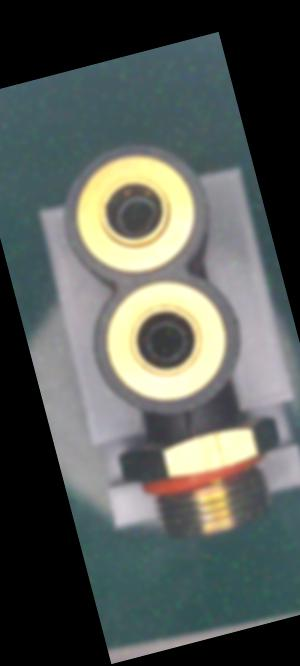craze: (179, 404, 200, 444)
off-centered: (110, 185, 165, 245)
